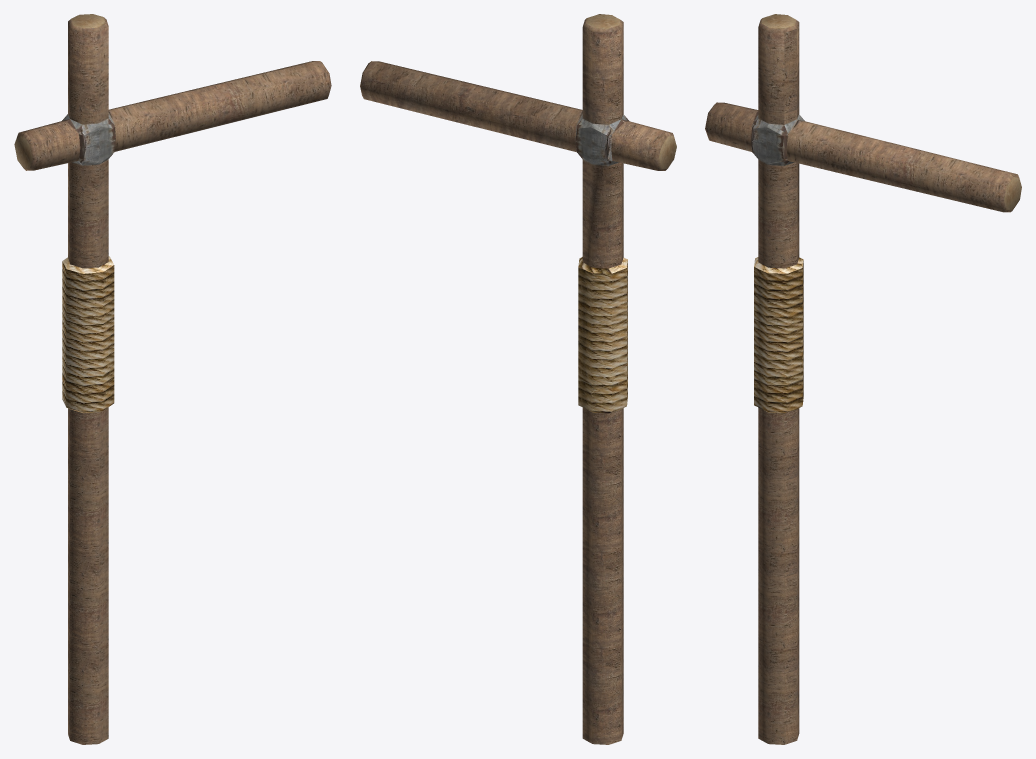
Rendered from BannerPole.FBX.
3 renders of one model, left to right at view 1: azimuth 30°, elevation 25°; view 2: azimuth 150°, elevation 25°; view 3: azimuth 330°, elevation 25°, orthographic.
Visible parts, largest first — view 1: Cylinder002; view 2: Cylinder002; view 3: Cylinder002.
Boxes of the visible parts, x1,y1,x2,y2 form: Cylinder002: [14, 14, 331, 744]; Cylinder002: [360, 14, 676, 744]; Cylinder002: [705, 14, 1021, 744].
Bounding box in the file's own units: 2.95 × 6.74 × 0.4487.
Materials: 1 (1 with a texture image).
